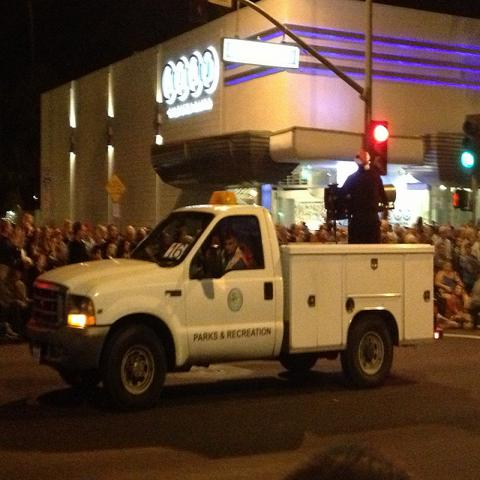truck: (28, 191, 444, 408)
